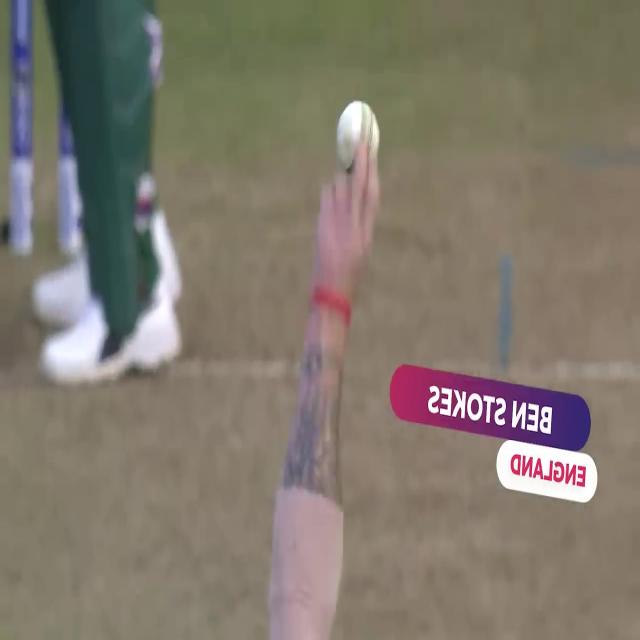ball: (336, 93, 384, 179)
